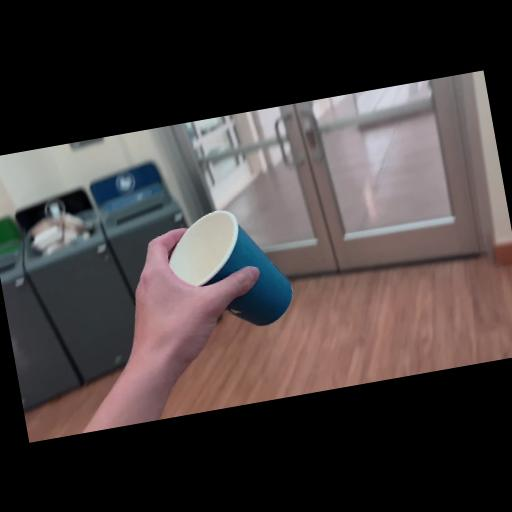lp_paper_cup: (155, 198, 299, 342)
